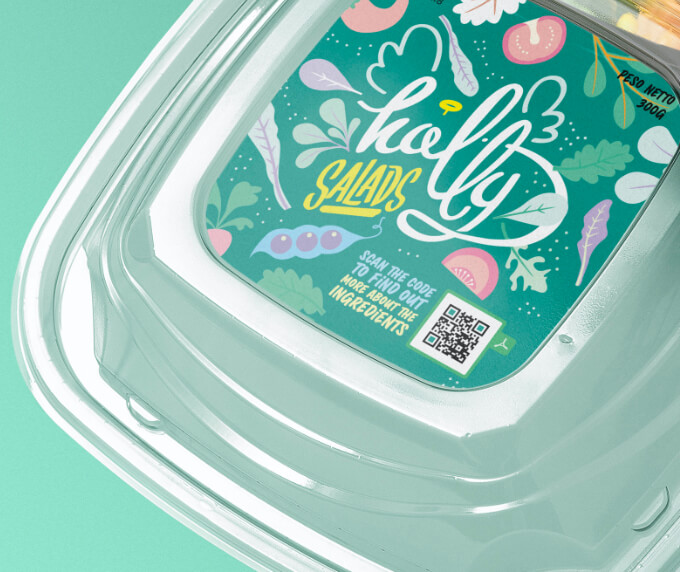qr_code: (408, 291, 509, 375)
